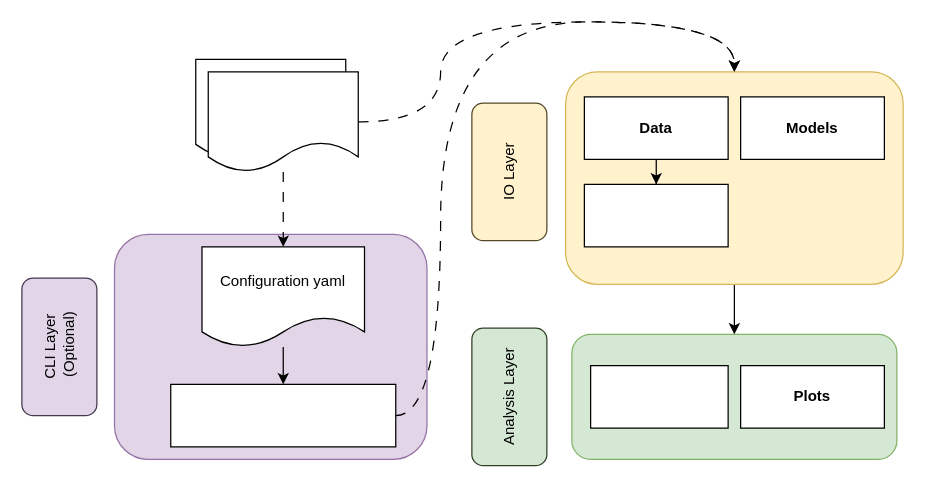
The diagram is 925 pixels wide and 488 high, and some of its shapes have lost their labels. The shapes that lost their labels are listed below. From the top down, each one's box as (x1, y1, x2, y2) in pixels, then its label:
(207, 71, 358, 172): Data & Model files
(583, 183, 728, 247): Simulator
(170, 383, 396, 447): Thin Python Client
(589, 364, 728, 428): Metrics
